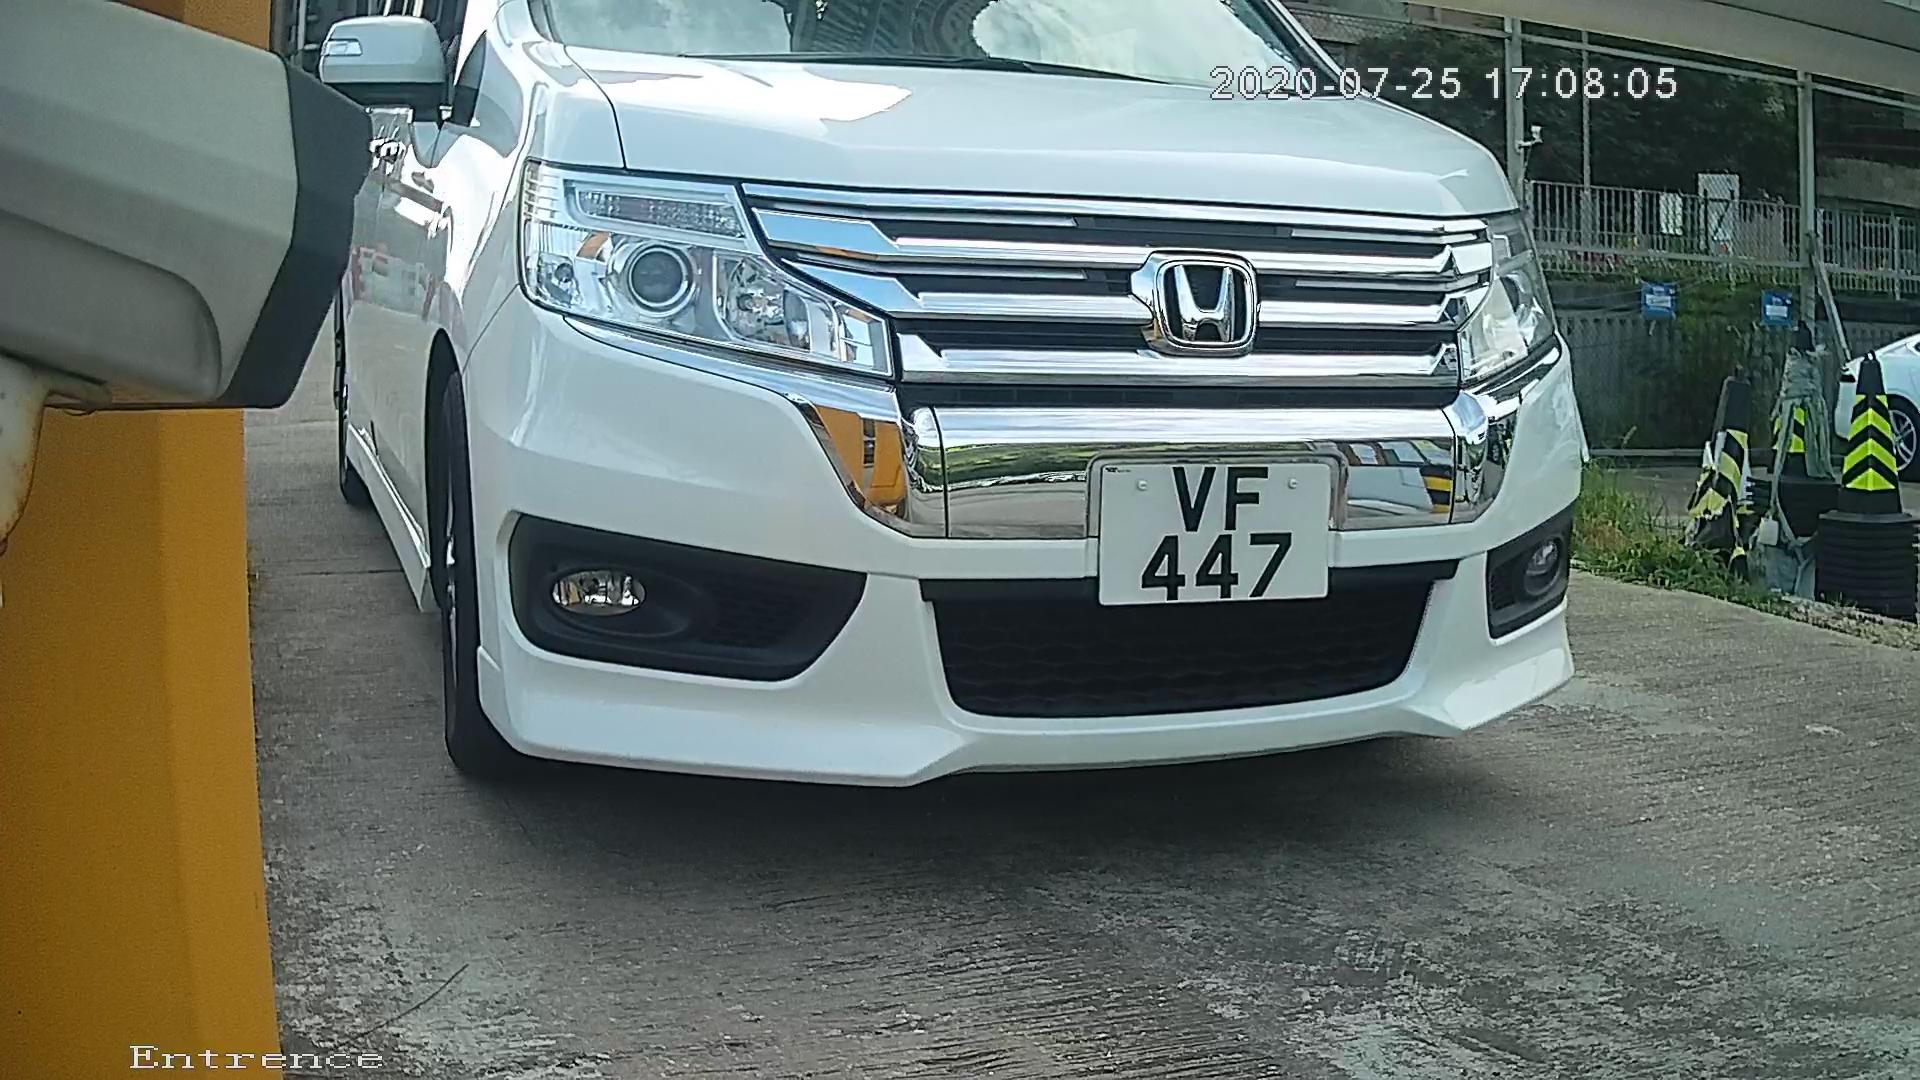Car: (155, 1, 1681, 868)
License Plate: (1063, 425, 1372, 637)
